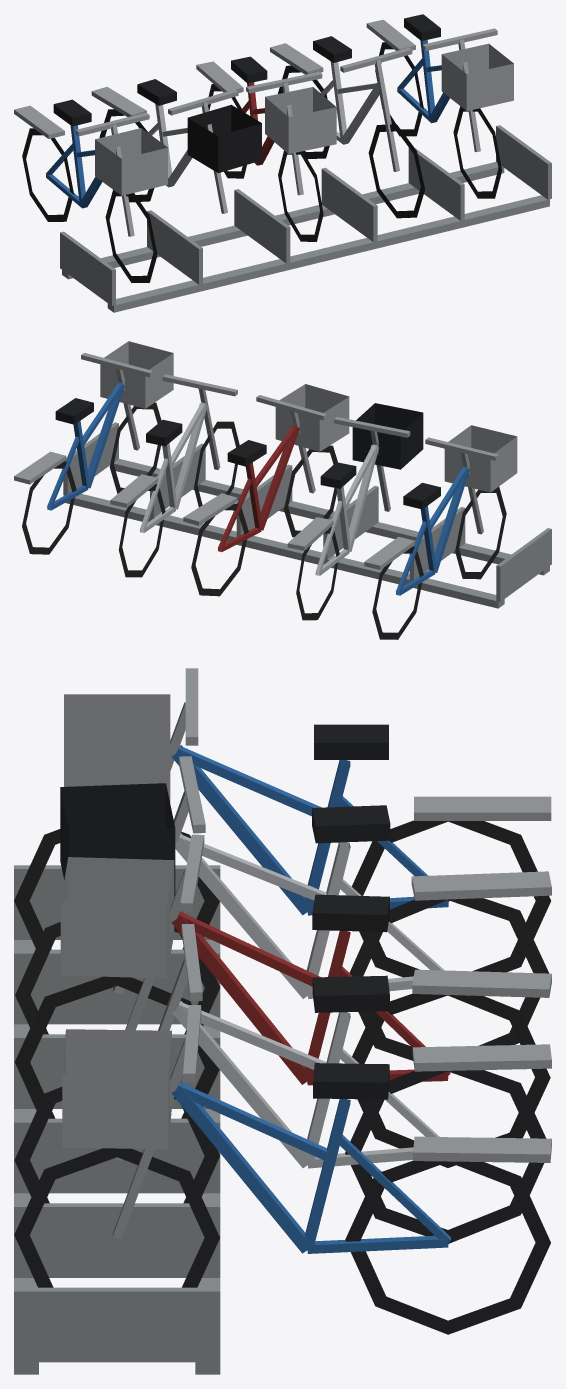
Rendered from tokyo_bicycle_rack.glb.
The picture shows the model from 3 angles, top to bottom: view 1: azimuth 30°, elevation 25°; view 2: azimuth 150°, elevation 25°; view 3: azimuth 270°, elevation 25°; orthographic projection. The views are drawn at different scales.
Parts seen in each view (by area): view 1: tokyo_bicycle_rack; view 2: tokyo_bicycle_rack; view 3: tokyo_bicycle_rack.
Part boxes in pixels (x1=…): tokyo_bicycle_rack: x1=14, y1=14, x2=551, y2=312; tokyo_bicycle_rack: x1=14, y1=341, x2=551, y2=639; tokyo_bicycle_rack: x1=14, y1=668, x2=551, y2=1374.
Bounding box in the file's own units: 3.23 × 1.03 × 1.72.
1 material, 1 textured.
